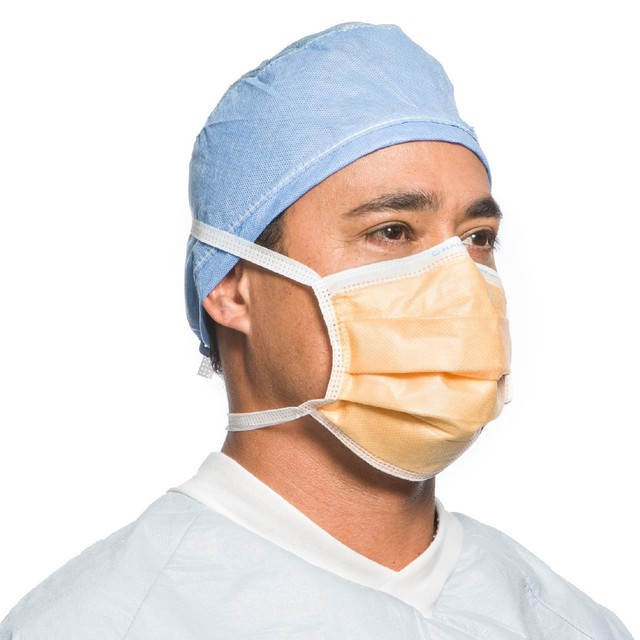mask: (325, 258, 515, 470)
